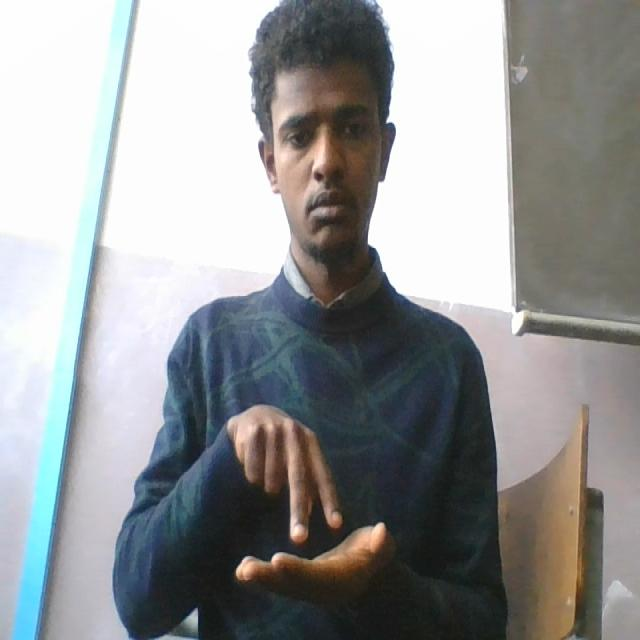mezlel: (221, 402, 400, 602)
